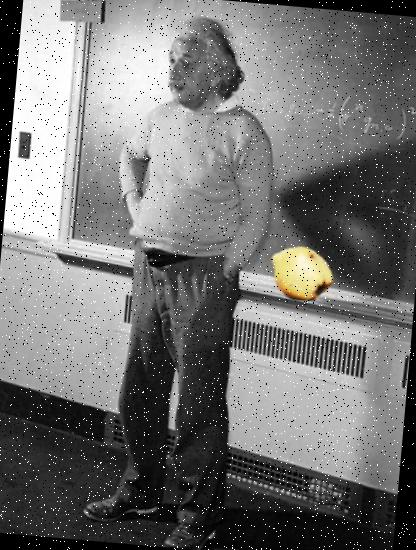Quince: (266, 238, 335, 308)
